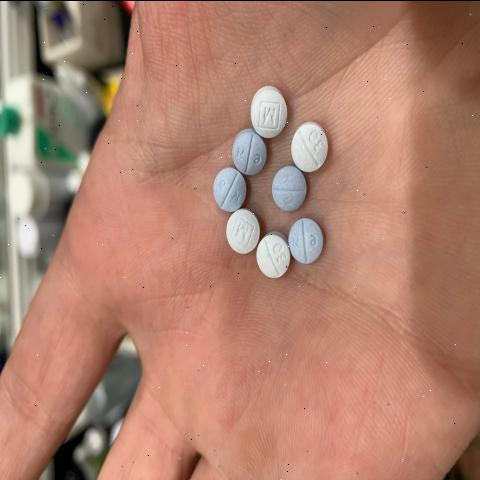Pill: (240, 74, 288, 142), (251, 228, 292, 298), (218, 206, 262, 270), (290, 117, 332, 174)
